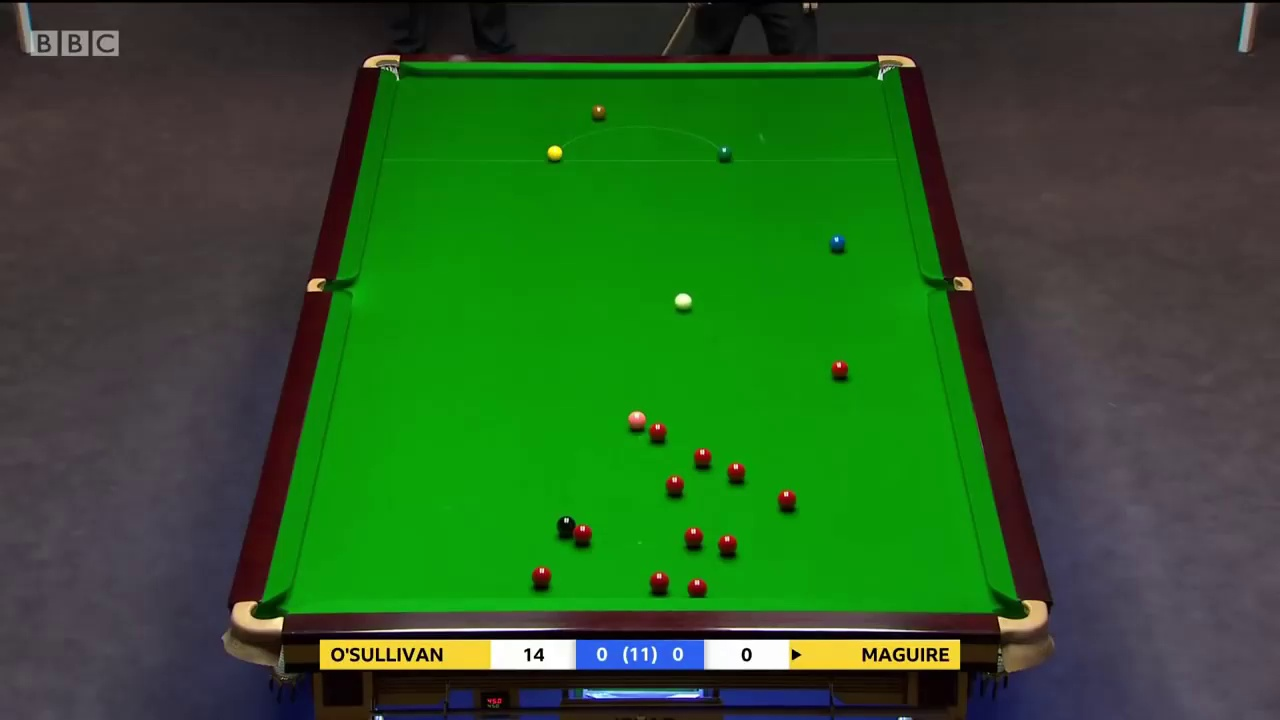black: (556, 518, 574, 537)
blue: (829, 236, 846, 252)
brown: (592, 106, 605, 118)
green: (719, 147, 734, 161)
pink: (628, 410, 647, 432)
red: (716, 534, 738, 556), (649, 572, 671, 593), (531, 566, 552, 587), (665, 473, 684, 496), (829, 359, 849, 380), (726, 462, 747, 481), (688, 579, 707, 598), (777, 490, 797, 508), (573, 523, 590, 544), (649, 423, 668, 441), (683, 528, 702, 546), (695, 449, 712, 467)
white: (673, 294, 695, 311)
yellow: (547, 146, 563, 159)
